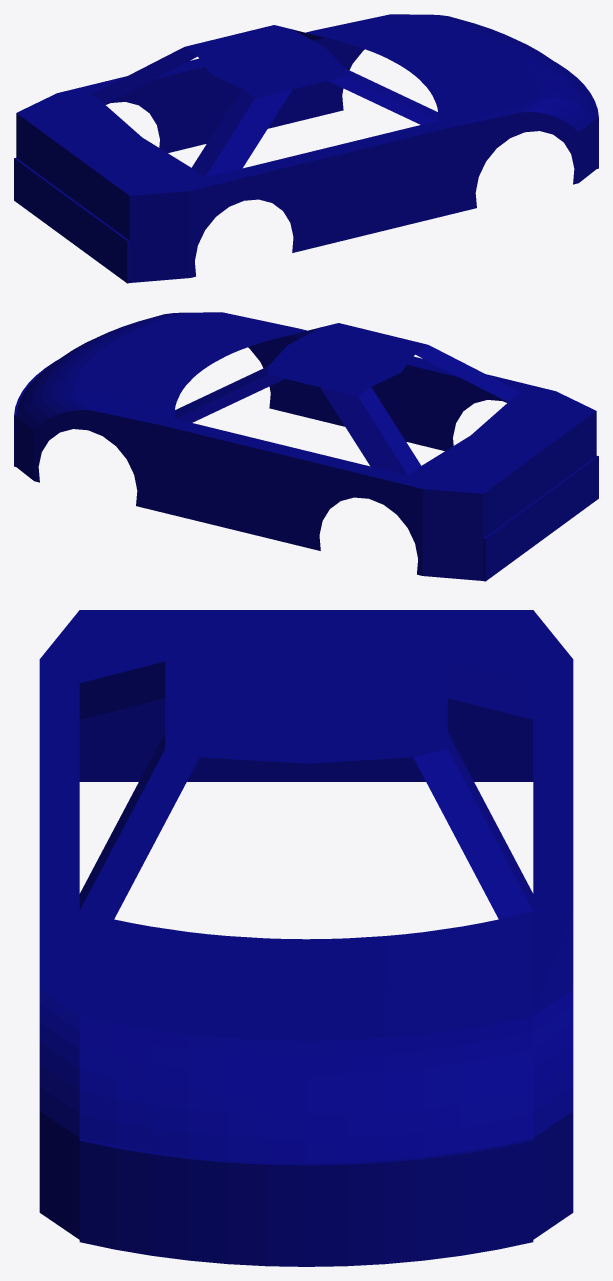
The model's file is autonomos.dae.
3 renders of one model, top to bottom at view 1: azimuth 30°, elevation 25°; view 2: azimuth 150°, elevation 25°; view 3: azimuth 270°, elevation 25°, orthographic. The views are drawn at different scales.
Parts seen in each view (by area): view 1: half_car (×2); view 2: half_car (×2); view 3: half_car (×2).
Part boxes in pixels (x1,y1,x2,y2): half_car (×2): (14,14,598,283); half_car (×2): (14,312,598,581); half_car (×2): (39,610,573,1266).
Size of the model in its own units: 16.93 by 7.87 by 4.33.
